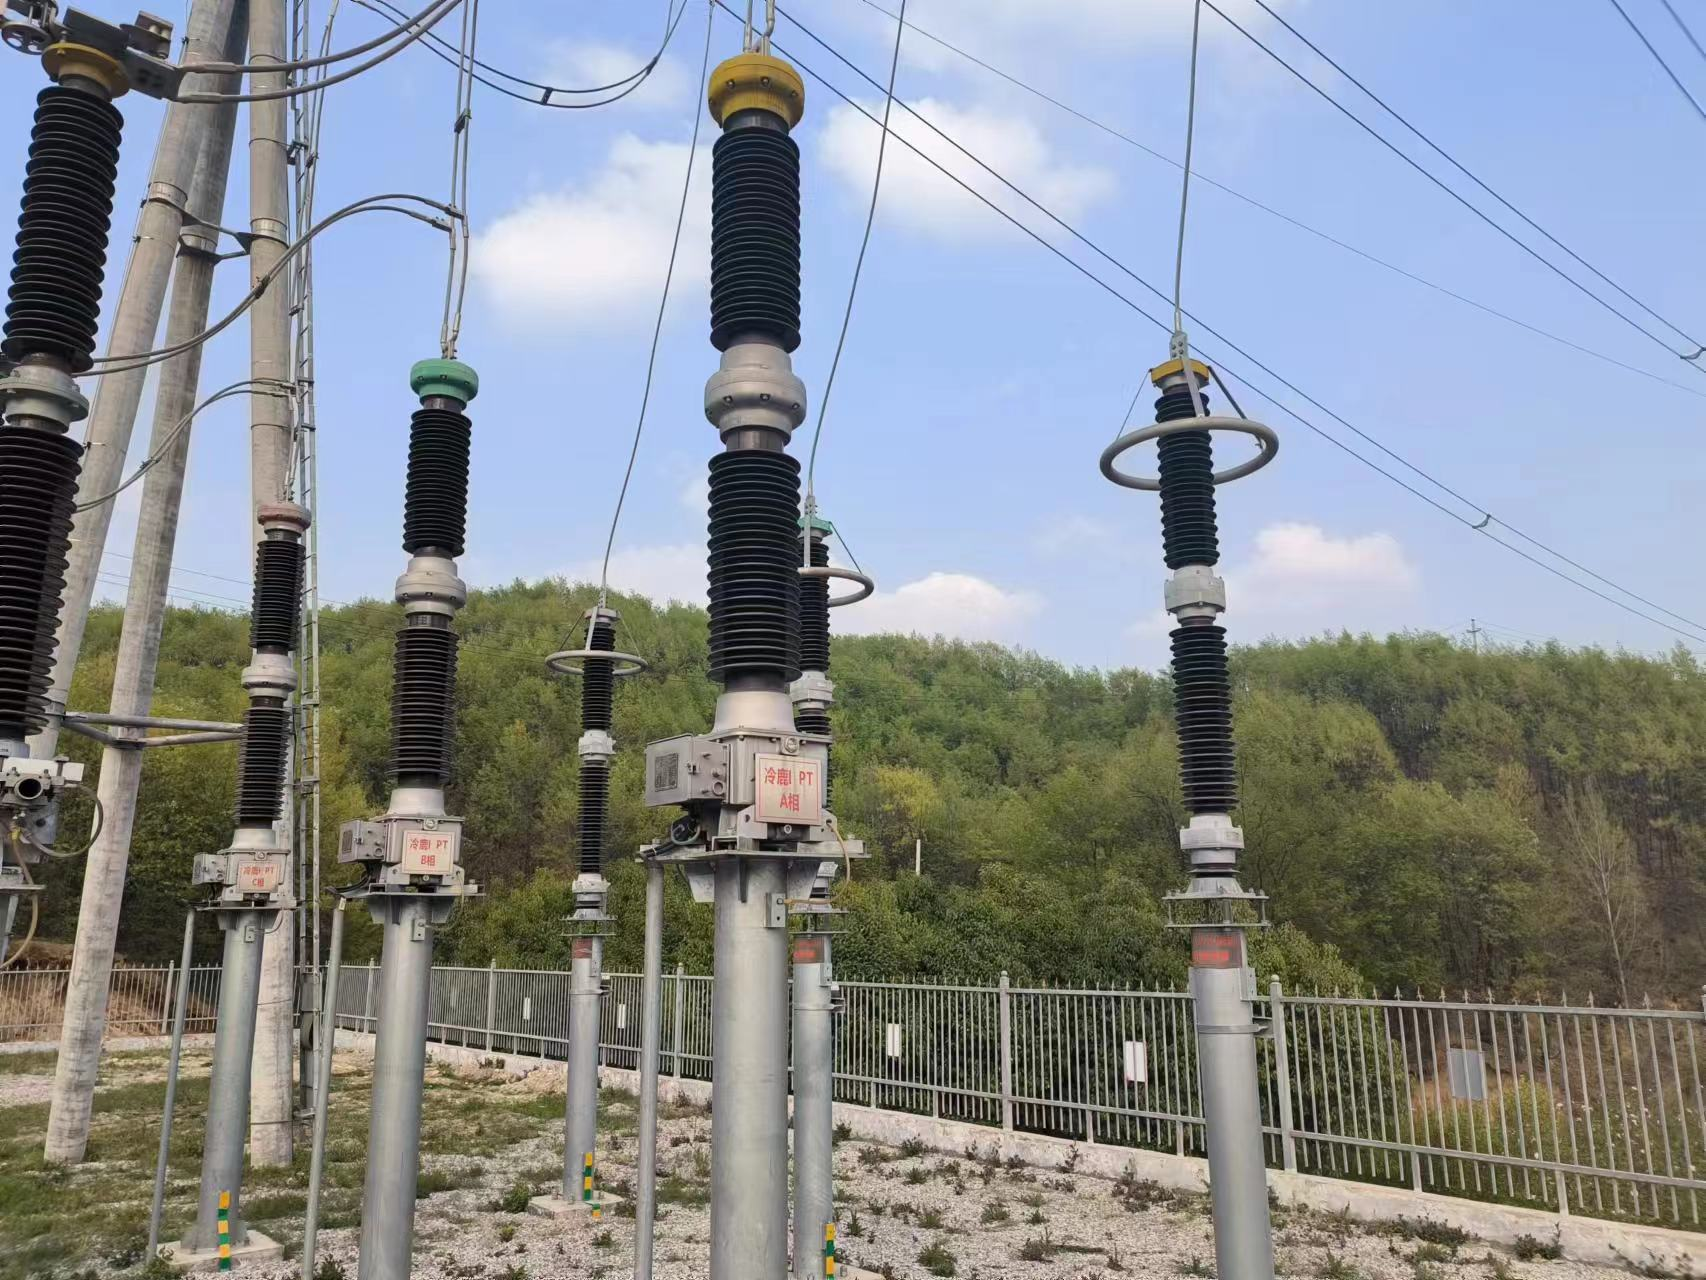Arrester: (1092, 358, 1305, 905), (540, 602, 649, 917)
